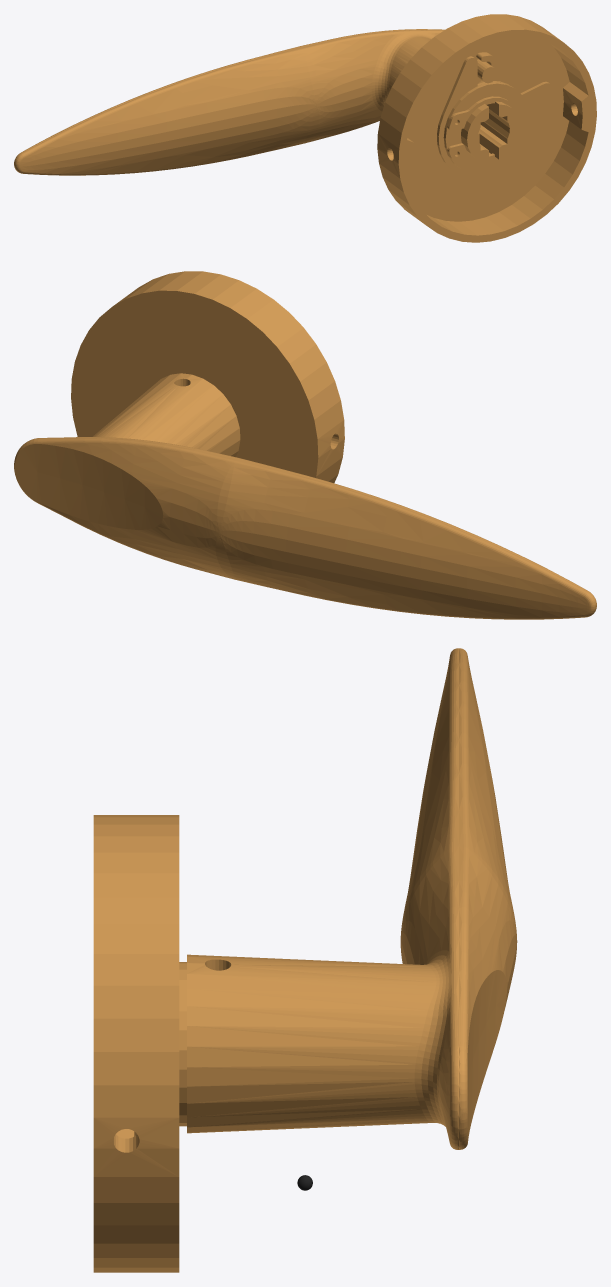
The model's file is moon pvd gold.glb.
3 views of the same model, one above another, from view 1: azimuth 30°, elevation 25°; view 2: azimuth 150°, elevation 25°; view 3: azimuth 270°, elevation 25° (orthographic). The views are drawn at different scales.
Parts seen in each view (by area): view 1: MOON_417e89, MOON; view 2: MOON, MOON_417e89; view 3: MOON, MOON_417e89.
Part boxes in pixels (<box>): MOON_417e89: <box>377,14,596,242</box>; MOON: <box>14,29,520,175</box>; MOON: <box>14,373,596,619</box>; MOON_417e89: <box>71,271,344,482</box>; MOON: <box>187,648,517,1149</box>; MOON_417e89: <box>93,815,186,1272</box>.
Bounding box in the file's own units: 0.9376 × 0.3784 × 0.35.
